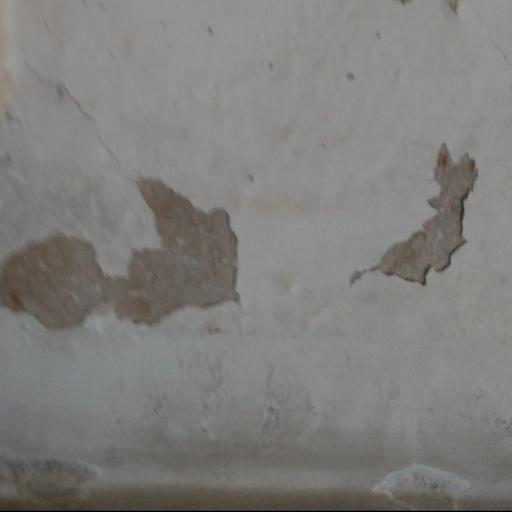peeling: (0, 171, 254, 334), (348, 131, 490, 288)
